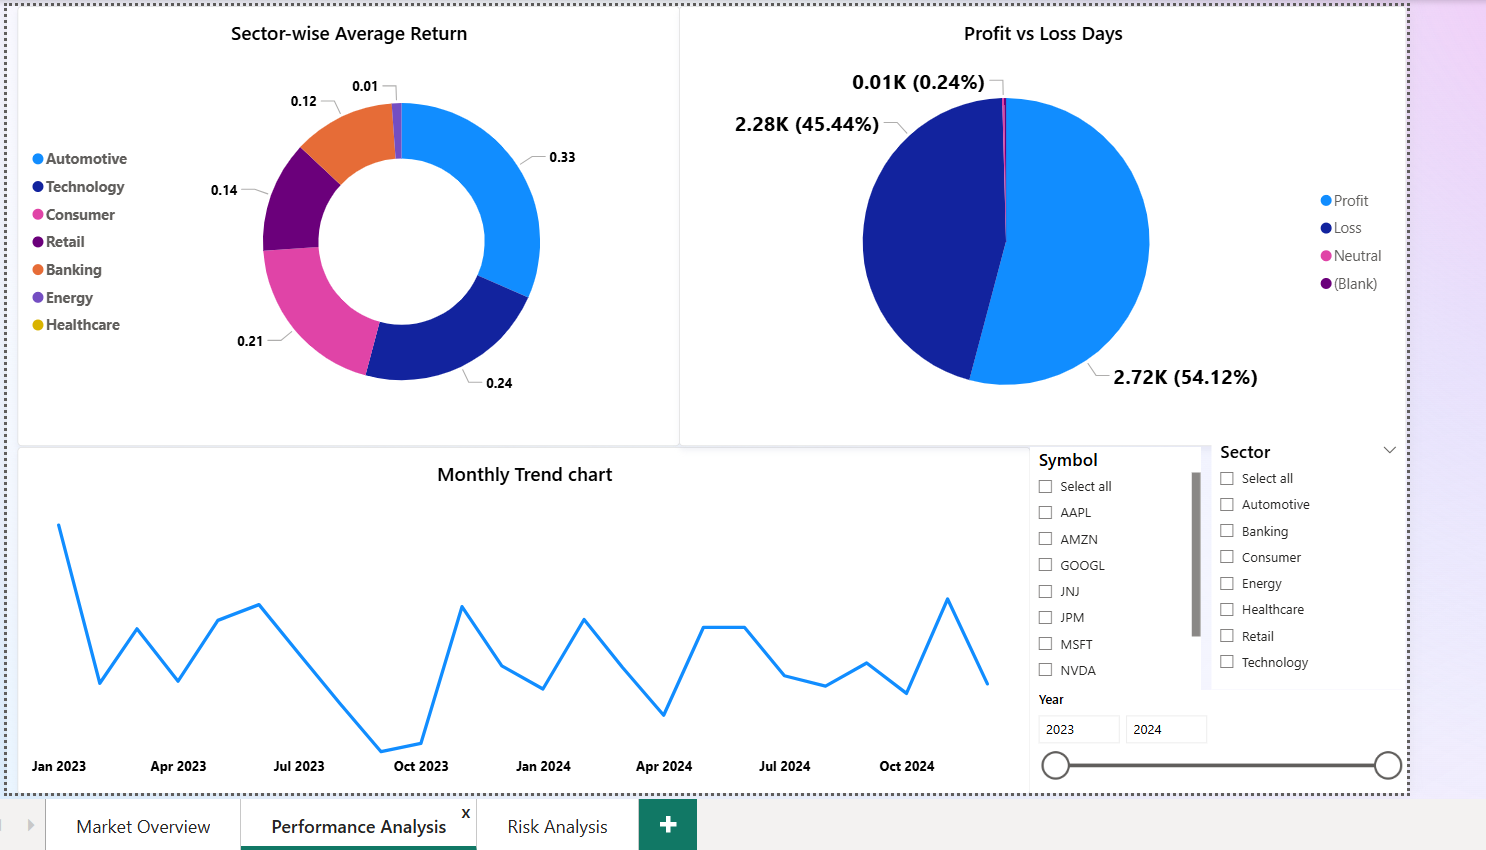

Layout of this report page (visuals, bound fields, positions):
{"tool":"powerbi","page":{"name":"Performance Analysis","canvas":[1280,720],"ordinal":1},"visuals":[{"type":"donutChart","title":"Sector-wise Average Return","fields":{"Category":["Stock_Data.Sector"],"Y":["Avg(Stock_Data.Daily_Return_%)"]},"box":[9.1,0,605.7,402.8],"z":0},{"type":"lineChart","title":"Monthly Trend chart","fields":{"Y":["Avg(Stock_Data.Daily_Return_%)"],"Category":["Stock_Data.Month_Year"]},"box":[9.1,402.8,926.7,318],"z":1000},{"type":"pieChart","title":"Profit vs Loss Days","fields":{"Y":["CountNonNull(Stock_Data.Date)"],"Category":["Stock_Data.Profit_Loss"]},"box":[614.2,0,665.2,402.5],"z":2000},{"type":"slicer","fields":{"Values":["Stock_Data.Symbol"]},"box":[935.8,402.8,156,222.6],"z":2001},{"type":"slicer","fields":{"Values":["Stock_Data.Year"]},"box":[935.8,625.4,343.7,93.9],"z":2002},{"type":"slicer","fields":{"Values":["Summary_Stats.Sector"]},"box":[1102.3,396.7,177.2,228.6],"z":2003}]}

Visuals, with their boxes on the page's 1280x720 design canvas (x1, y1, x2, y2). These are canvas units, not pixel positions in the 1486x850 screenshot, which may show the page scaled, cropped or inside an application window:
"Sector-wise Average Return" donutChart: locate(9, 0, 615, 403)
"Monthly Trend chart" lineChart: locate(9, 403, 936, 721)
"Profit vs Loss Days" pieChart: locate(614, 0, 1279, 402)
slicer - Stock_Data.Symbol: locate(936, 403, 1092, 625)
slicer - Stock_Data.Year: locate(936, 625, 1280, 719)
slicer - Summary_Stats.Sector: locate(1102, 397, 1280, 625)
